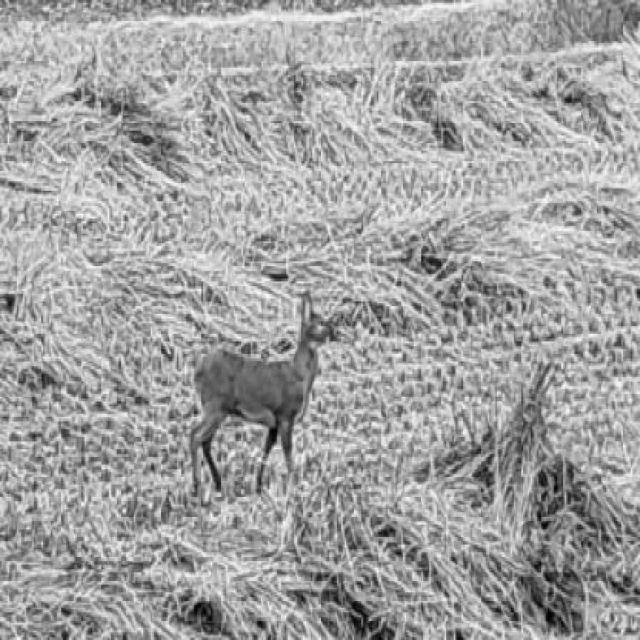Deer: (164, 284, 350, 520)
